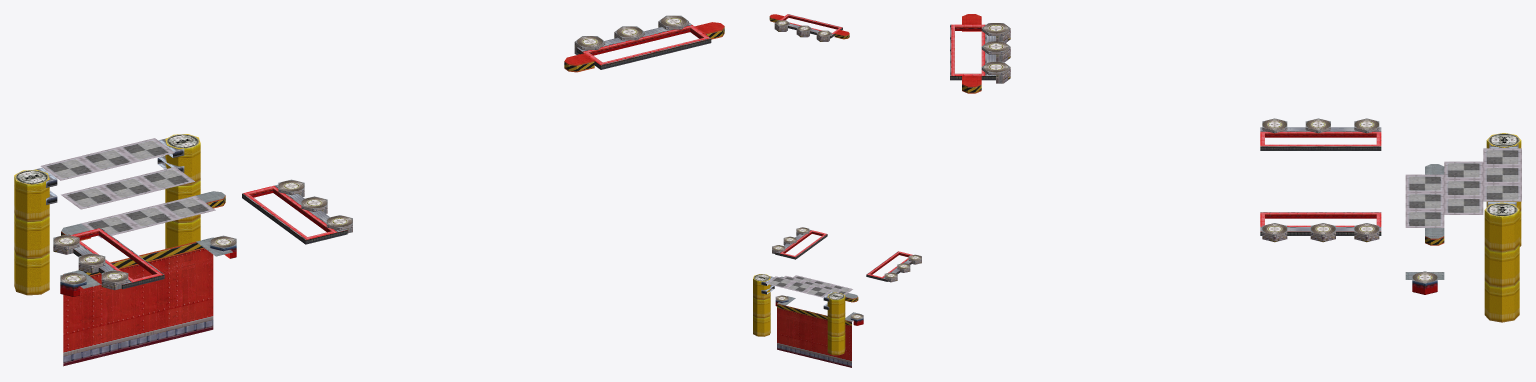
The model's file is S13_ONS_12.OBJ.
The picture shows the model from 3 angles, left to right: view 1: azimuth 30°, elevation 25°; view 2: azimuth 150°, elevation 25°; view 3: azimuth 270°, elevation 25°; orthographic projection. The views are drawn at different scales.
Parts seen in each view (by area): view 1: s13_ons_12_4, s13_ons_12_12, s13_ons_12_10, s13_ons_12_7, s13_ons_12_0, s13_ons_12_3, s13_ons_12_2, s13_ons_12_8, s13_ons_12_13, s13_ons_12_5, s13_ons_12_11, s13_ons_12_1 (+1 smaller); view 2: s13_ons_12_4, s13_ons_12_10, s13_ons_12_12, s13_ons_12_7, s13_ons_12_0, s13_ons_12_8, s13_ons_12_3, s13_ons_12_6, s13_ons_12_2, s13_ons_12_5, s13_ons_12_11, s13_ons_12_9 (+2 smaller); view 3: s13_ons_12_12, s13_ons_12_10, s13_ons_12_7, s13_ons_12_0, s13_ons_12_3, s13_ons_12_2, s13_ons_12_5, s13_ons_12_6, s13_ons_12_11, s13_ons_12_1, s13_ons_12_13.
Part boxes in pixels (box(x1,y1,x2,y2)): s13_ons_12_4: box(63, 22, 724, 366); s13_ons_12_12: box(40, 138, 215, 238); s13_ons_12_10: box(14, 140, 200, 295); s13_ons_12_7: box(53, 15, 688, 284); s13_ons_12_0: box(71, 24, 710, 282); s13_ons_12_3: box(60, 27, 703, 296); s13_ons_12_2: box(73, 38, 711, 289); s13_ons_12_8: box(61, 26, 724, 276); s13_ons_12_13: box(61, 191, 232, 288); s13_ons_12_5: box(53, 21, 688, 285); s13_ons_12_11: box(14, 134, 200, 184); s13_ons_12_1: box(73, 22, 691, 284); s13_ons_12_4: box(770, 14, 851, 367); s13_ons_12_10: box(753, 279, 845, 355); s13_ons_12_12: box(766, 275, 852, 297); s13_ons_12_7: box(772, 20, 921, 319); s13_ons_12_0: box(779, 14, 912, 278); s13_ons_12_8: box(769, 16, 858, 326); s13_ons_12_3: box(775, 15, 909, 325); s13_ons_12_6: box(772, 25, 921, 282); s13_ons_12_2: box(775, 26, 911, 281); s13_ons_12_5: box(772, 23, 921, 279); s13_ons_12_11: box(753, 274, 844, 299); s13_ons_12_9: box(761, 276, 834, 310); s13_ons_12_12: box(1405, 148, 1521, 227); s13_ons_12_10: box(1484, 140, 1521, 322); s13_ons_12_7: box(982, 23, 1437, 283); s13_ons_12_0: box(950, 24, 1381, 227); s13_ons_12_3: box(955, 26, 1437, 294); s13_ons_12_2: box(950, 76, 1381, 235); s13_ons_12_5: box(981, 28, 1379, 237); s13_ons_12_6: box(996, 31, 1379, 242); s13_ons_12_11: box(1485, 133, 1521, 216); s13_ons_12_1: box(986, 34, 1381, 231); s13_ons_12_13: box(1405, 164, 1444, 279).
Size of the model in its own units: 1047 by 923 by 1180.
15 materials, 15 textured.
